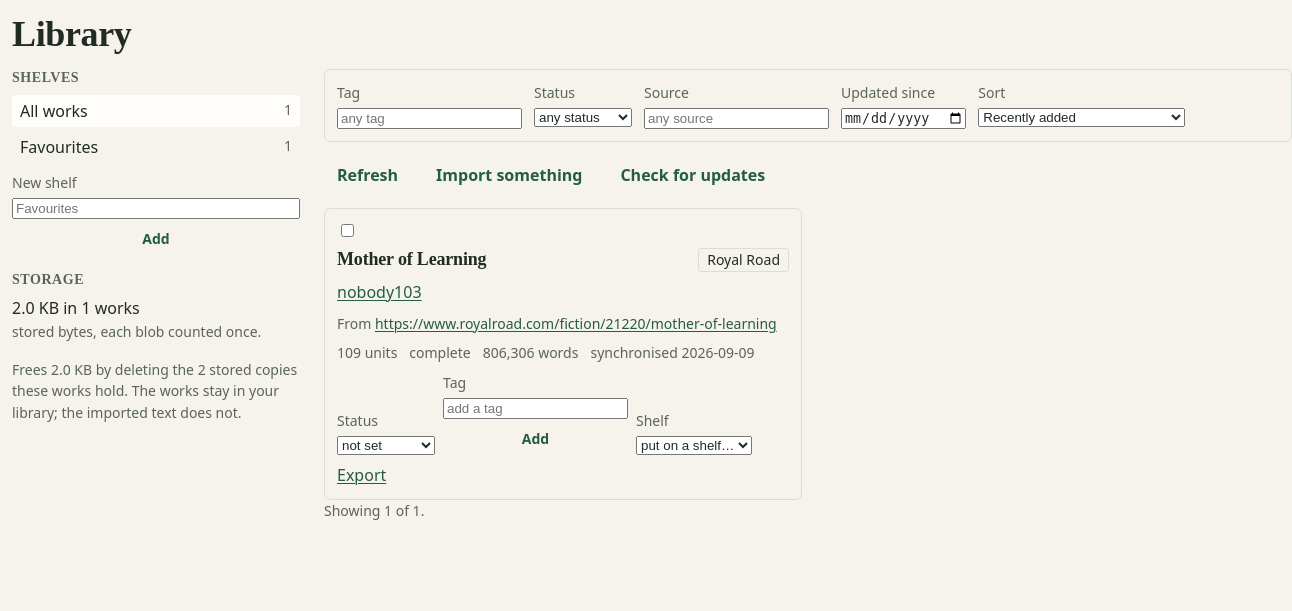
Scenario: the library page › removing a selection reports per item rather than as one flag
Step 1. Click the checkbox → (348, 230), box [341,224,354,237]
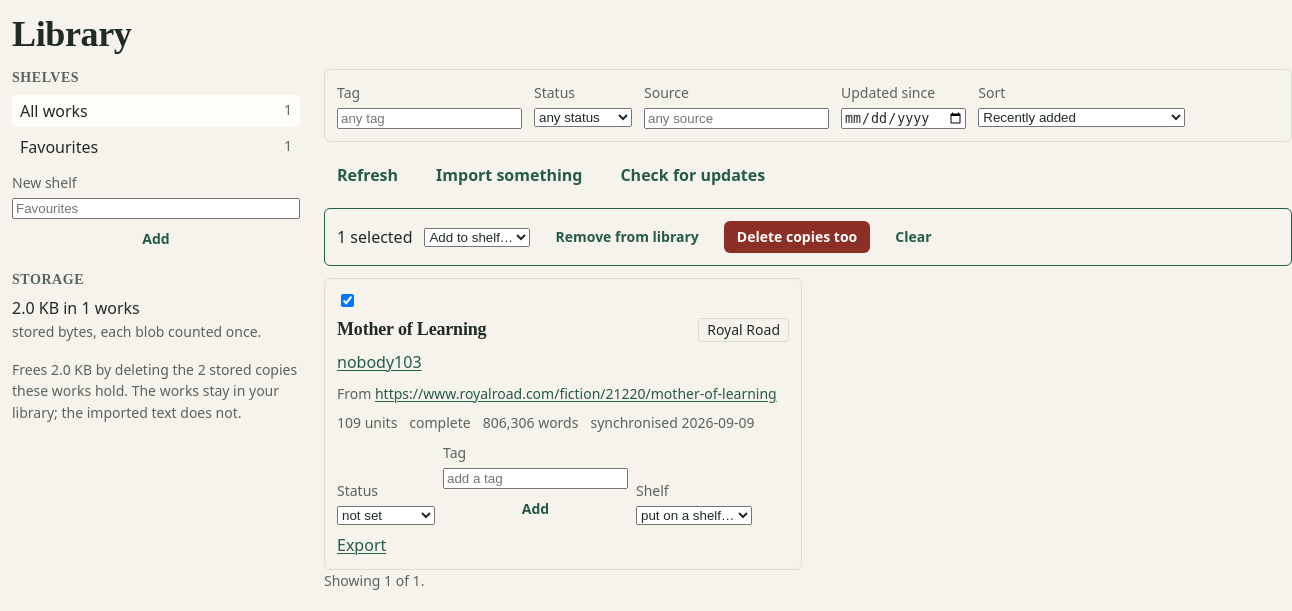
expect the text "1 selected" is shown: met, box [337,225,412,249]
Step 2. Click the button "Remove from library" → (627, 237), box [542,221,712,253]
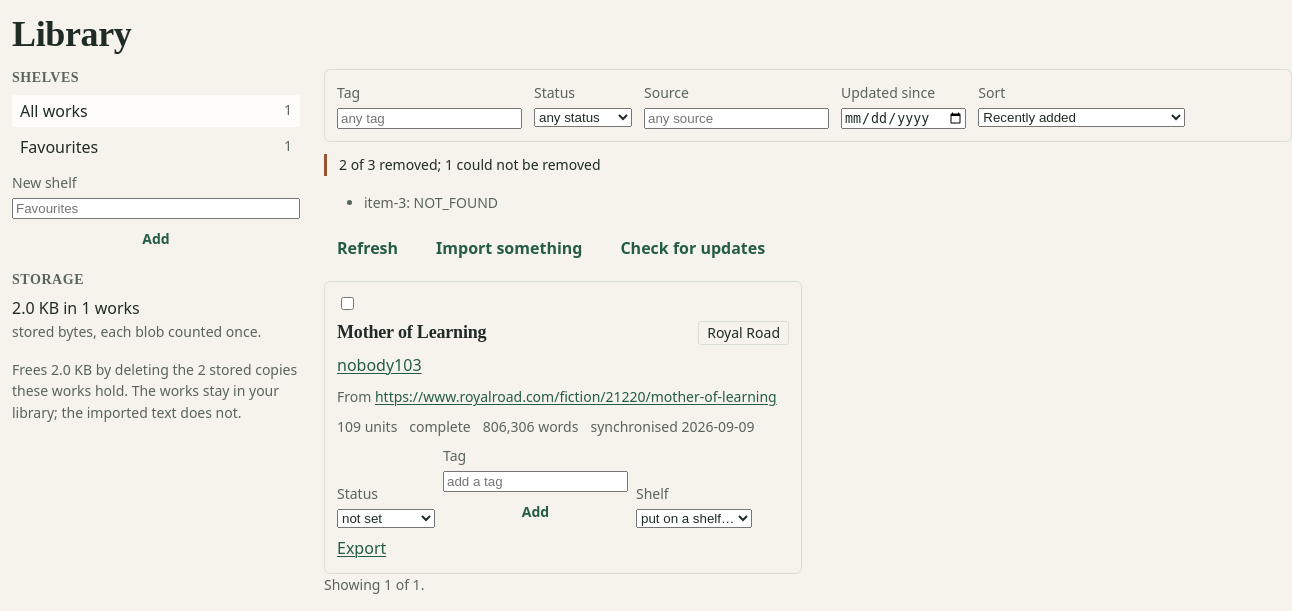
expect the text "2 of 3 removed; 1 could not be removed" is shown: met, box [324,154,868,176]
expect the text "item-3" is shown: met, box [364,193,498,212]
